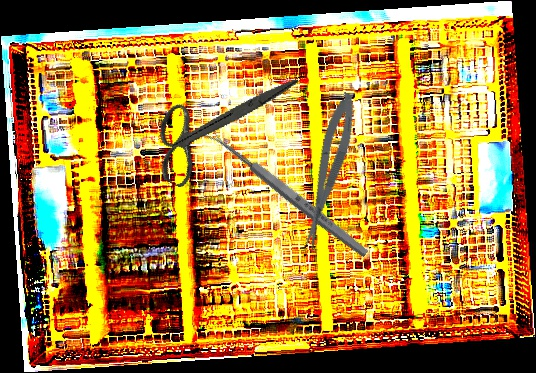Iris Scissors: (139, 34, 300, 214)
Micro Scissor: (291, 89, 364, 255)
Surgical Spoon: (201, 123, 371, 260)
